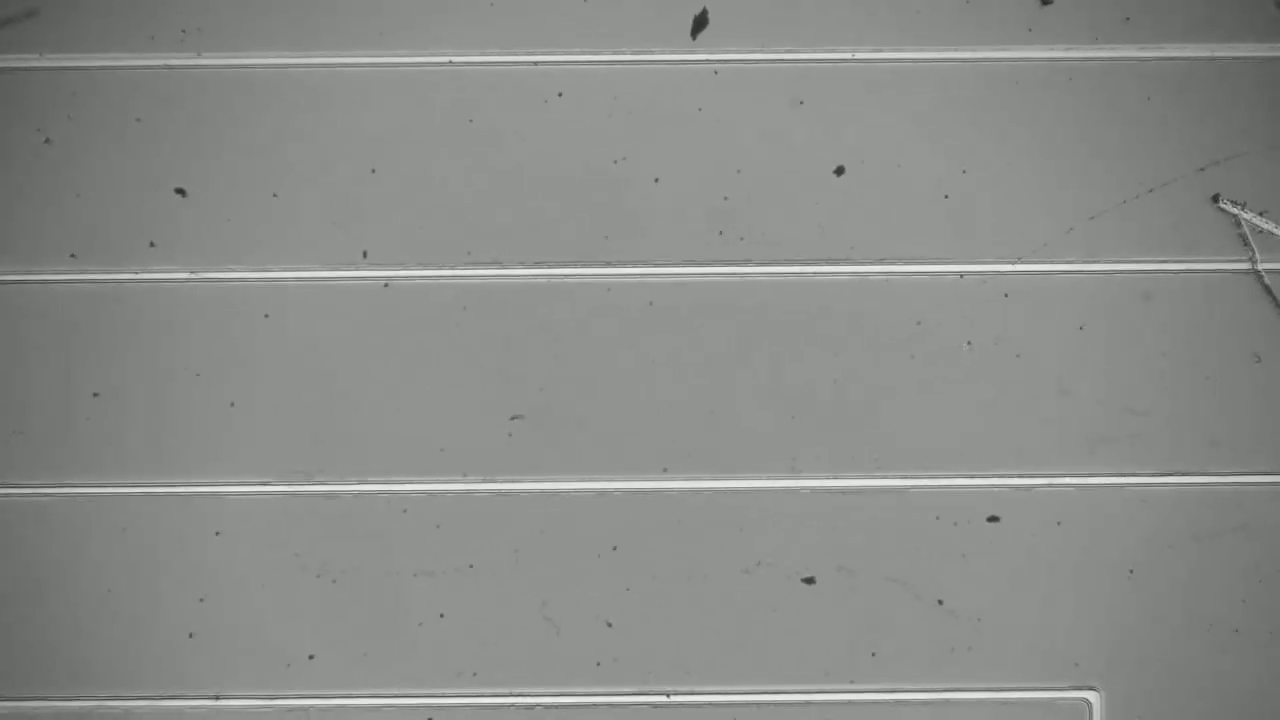scratch: (1062, 150, 1260, 237), (1234, 219, 1280, 301), (1214, 190, 1280, 233)
